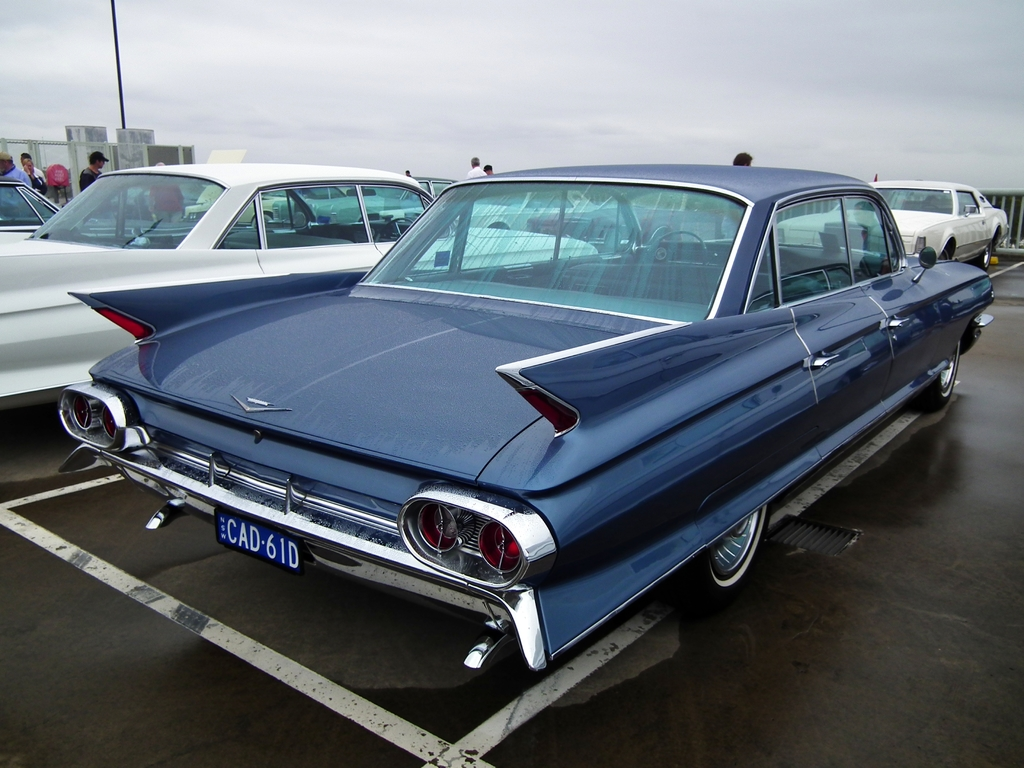Car: (0, 158, 1013, 677)
